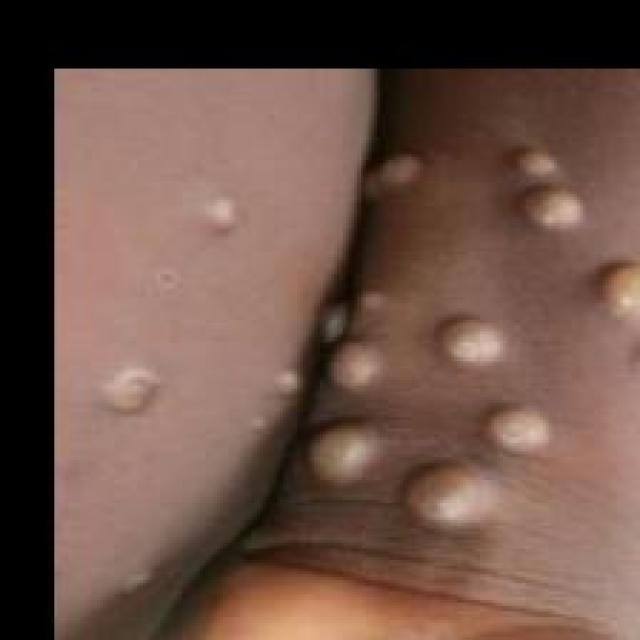monkeypox: (103, 77, 640, 640)
